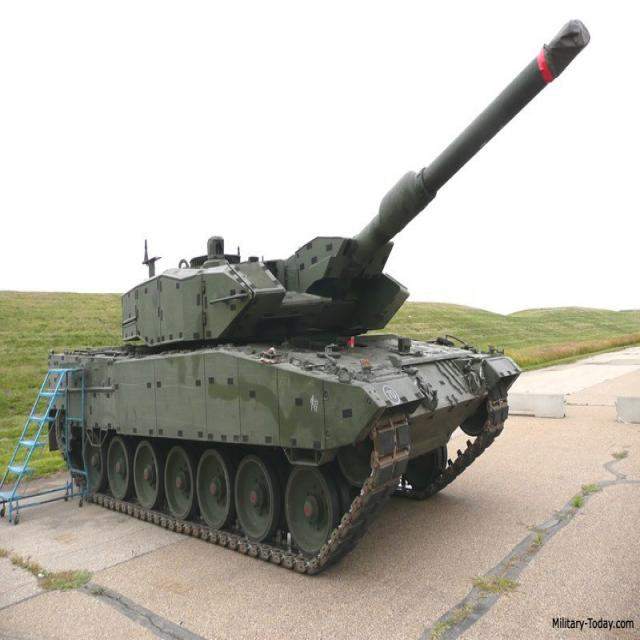Tank: (27, 78, 575, 546)
